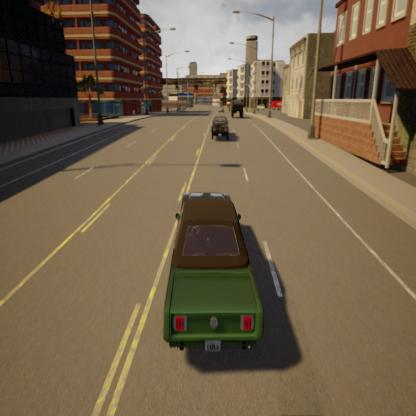Cars: (158, 182, 269, 376), (207, 109, 232, 142), (228, 96, 247, 122)
